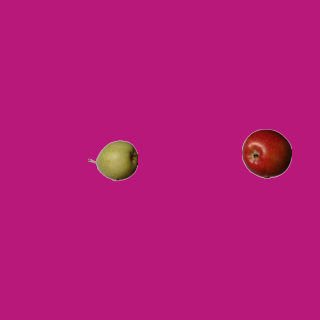Apple Braeburn: (241, 128, 291, 178)
Pear: (87, 135, 137, 185)
